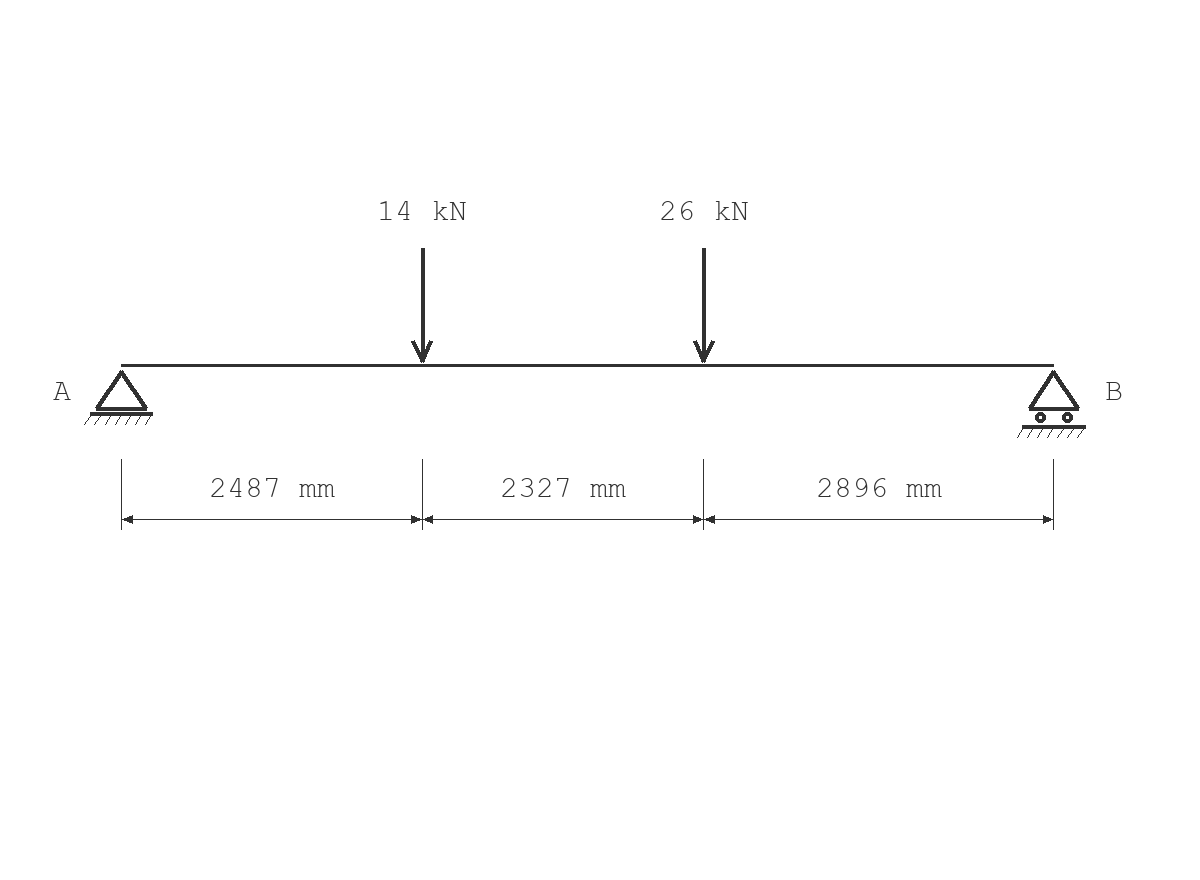pin_support: (84, 370, 153, 425)
point_load: (411, 248, 433, 363), (693, 248, 715, 363)
roller_support: (1017, 370, 1086, 438)
